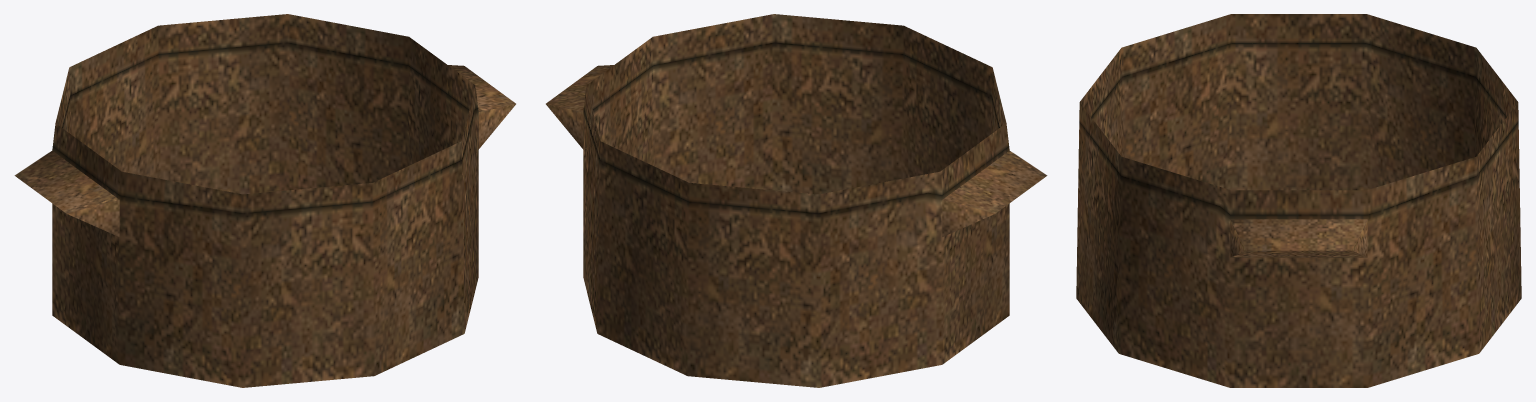
Rendered from edb_con_tato_pot_empty_s01_l1.fbx.
3 renders of one model, left to right at view 1: azimuth 30°, elevation 25°; view 2: azimuth 150°, elevation 25°; view 3: azimuth 270°, elevation 25°, orthographic. The views are drawn at different scales.
Visible parts, largest first — view 1: mesh_node; view 2: mesh_node; view 3: mesh_node.
Boxes of the visible parts, x1=… form: mesh_node: x1=14, y1=14, x2=515, y2=387; mesh_node: x1=546, y1=14, x2=1047, y2=387; mesh_node: x1=1076, y1=14, x2=1521, y2=387.
Size of the model in its own units: 0.3588 by 0.1464 by 0.301.
1 material, 1 textured.
